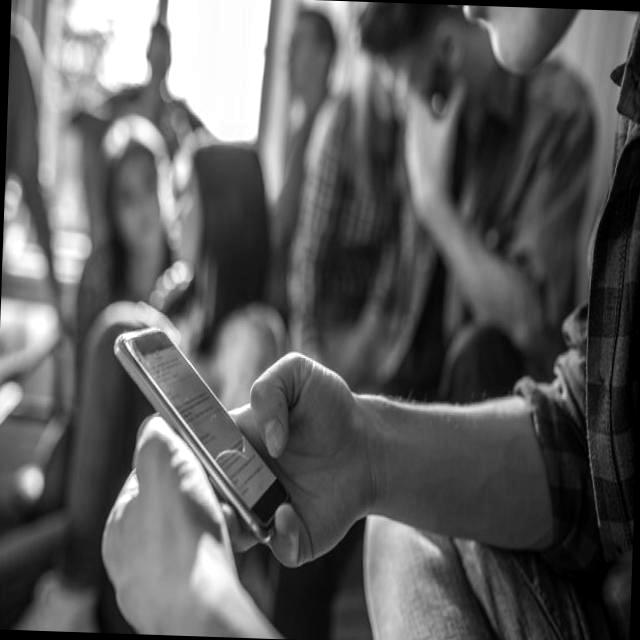phone: (106, 324, 294, 546)
